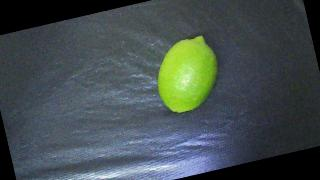LOCAL: (149, 33, 227, 116)
